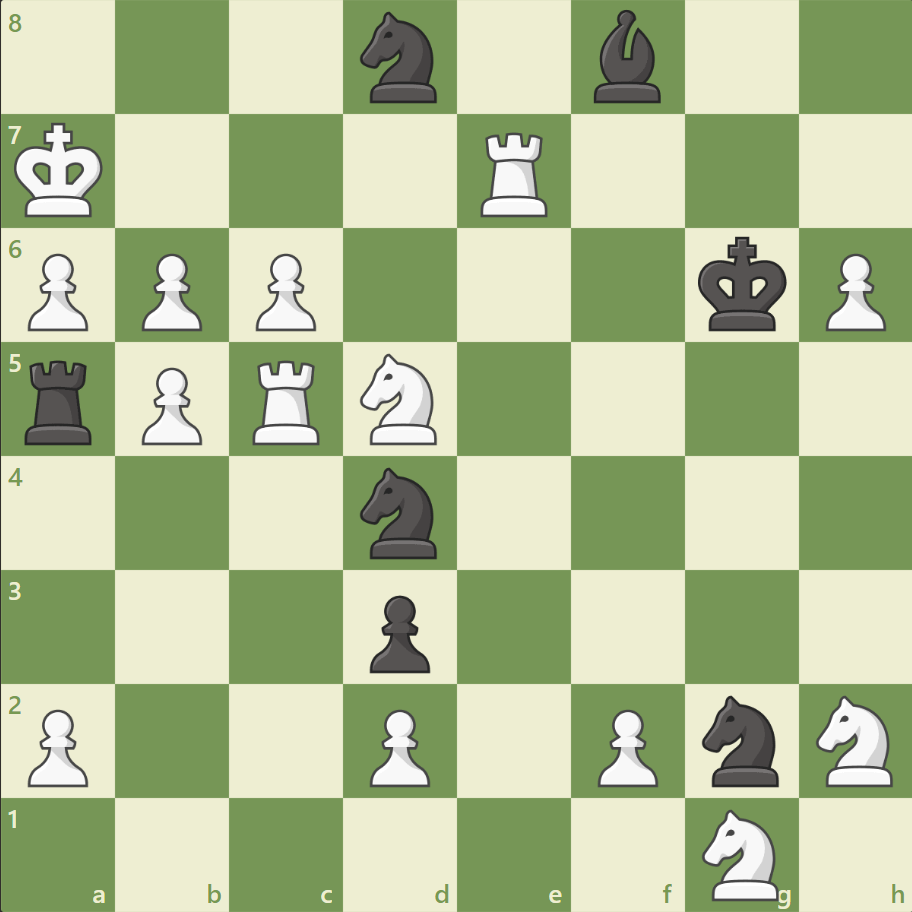K: (11, 117, 111, 225)
N: (351, 348, 449, 450), (806, 688, 903, 791), (692, 802, 789, 904)
P: (20, 246, 95, 337), (133, 246, 208, 337), (247, 246, 322, 337), (133, 359, 208, 450), (20, 700, 95, 791), (815, 246, 889, 337), (361, 700, 435, 791), (588, 700, 662, 791)
R: (473, 125, 556, 222), (246, 352, 329, 449)
b: (585, 6, 669, 109)
k: (692, 231, 792, 339)
n: (351, 7, 449, 110), (351, 461, 449, 564), (692, 688, 789, 791)
p: (361, 586, 435, 677)
r: (19, 352, 102, 449)
